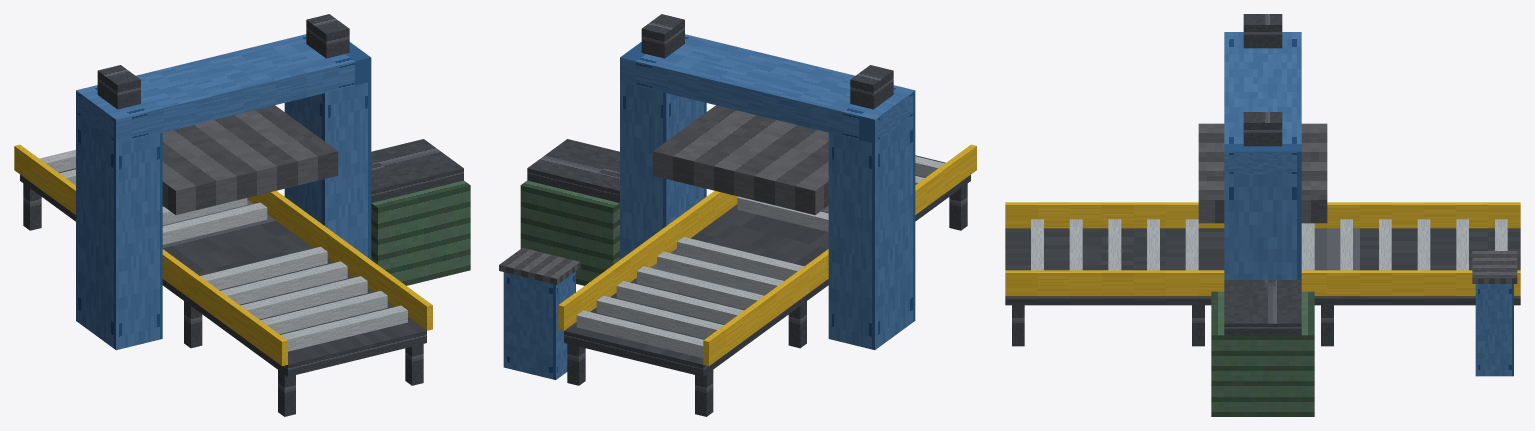
The model's file is rolling_mill.obj.
3 renders of one model, left to right at view 1: azimuth 30°, elevation 25°; view 2: azimuth 150°, elevation 25°; view 3: azimuth 270°, elevation 25°, orthographic. The views are drawn at different scales.
Visible parts, largest first — view 1: housing_l, crown, hood, bed, housing_r, main_motor, guard_l, guard_r, main_motor_end, roller12, roller8, roller9 (+10 smaller); view 2: housing_l, crown, hood, bed, housing_r, main_motor, cabinet, guard_l, guard_r, main_motor_end, roller0, roller1 (+11 smaller); view 3: bed, guard_r, main_motor, guard_l, crown, housing_r, hood, main_motor_end, cabinet, cab_roof, screwdown_l, screwdown_r (+12 smaller).
Boxes of the visible parts, x1=… form: housing_l: x1=76, y1=115, x2=162, y2=350; crown: x1=76, y1=34, x2=371, y2=143; hood: x1=162, y1=105, x2=338, y2=214; bed: x1=20, y1=168, x2=426, y2=376; housing_r: x1=284, y1=82, x2=371, y2=259; main_motor: x1=371, y1=180, x2=470, y2=285; guard_l: x1=14, y1=144, x2=287, y2=365; guard_r: x1=247, y1=190, x2=432, y2=330; main_motor_end: x1=371, y1=139, x2=463, y2=202; roller12: x1=281, y1=305, x2=407, y2=351; roller8: x1=200, y1=246, x2=327, y2=289; roller9: x1=220, y1=261, x2=347, y2=304; housing_l: x1=828, y1=115, x2=915, y2=349; crown: x1=620, y1=34, x2=915, y2=143; hood: x1=653, y1=105, x2=828, y2=214; bed: x1=564, y1=155, x2=970, y2=376; housing_r: x1=620, y1=82, x2=706, y2=259; main_motor: x1=520, y1=180, x2=619, y2=285; cabinet: x1=503, y1=271, x2=575, y2=379; guard_l: x1=703, y1=144, x2=976, y2=365; guard_r: x1=558, y1=191, x2=738, y2=330; main_motor_end: x1=527, y1=139, x2=619, y2=202; roller0: x1=576, y1=310, x2=703, y2=357; roller1: x1=596, y1=295, x2=723, y2=338; bed: x1=1005, y1=228, x2=1520, y2=305; guard_r: x1=1005, y1=270, x2=1520, y2=296; main_motor: x1=1211, y1=291, x2=1314, y2=416; guard_l: x1=1005, y1=202, x2=1520, y2=228; crown: x1=1224, y1=32, x2=1301, y2=174; housing_r: x1=1224, y1=175, x2=1301, y2=279; hood: x1=1198, y1=123, x2=1327, y2=223; main_motor_end: x1=1224, y1=280, x2=1301, y2=335; cabinet: x1=1475, y1=284, x2=1513, y2=376; cab_roof: x1=1472, y1=251, x2=1517, y2=283; screwdown_l: x1=1243, y1=14, x2=1282, y2=48; screwdown_r: x1=1243, y1=112, x2=1282, y2=146.
Bounding box in the file's own units: 3.75 × 2.62 × 5.
